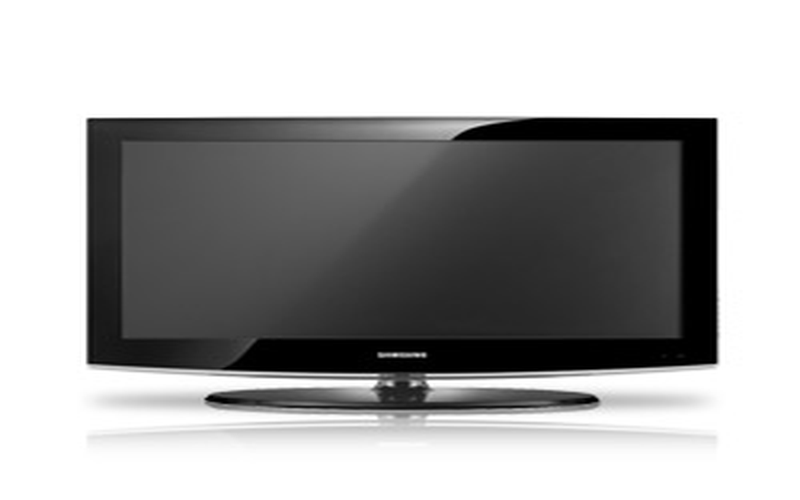LCD: (74, 89, 727, 434)
